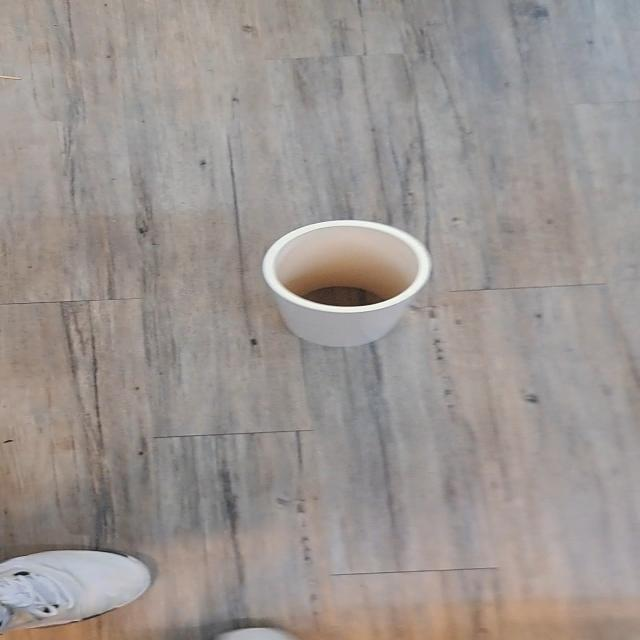CORAL: (196, 202, 469, 358)
